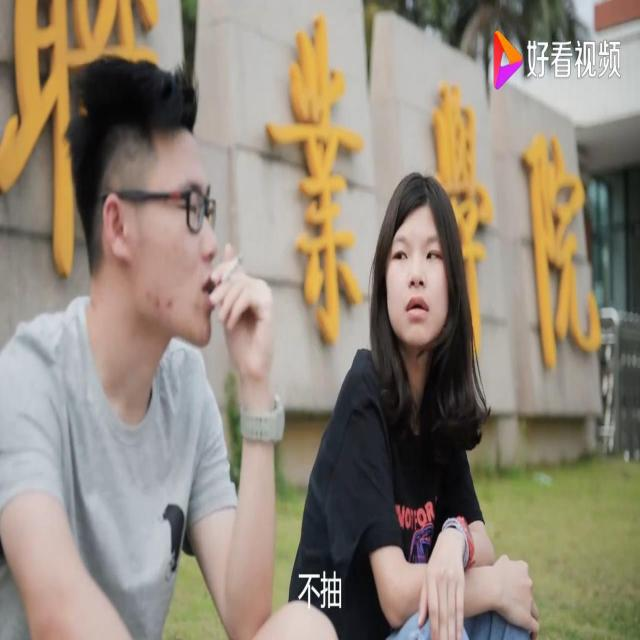smoke: (217, 246, 249, 294)
